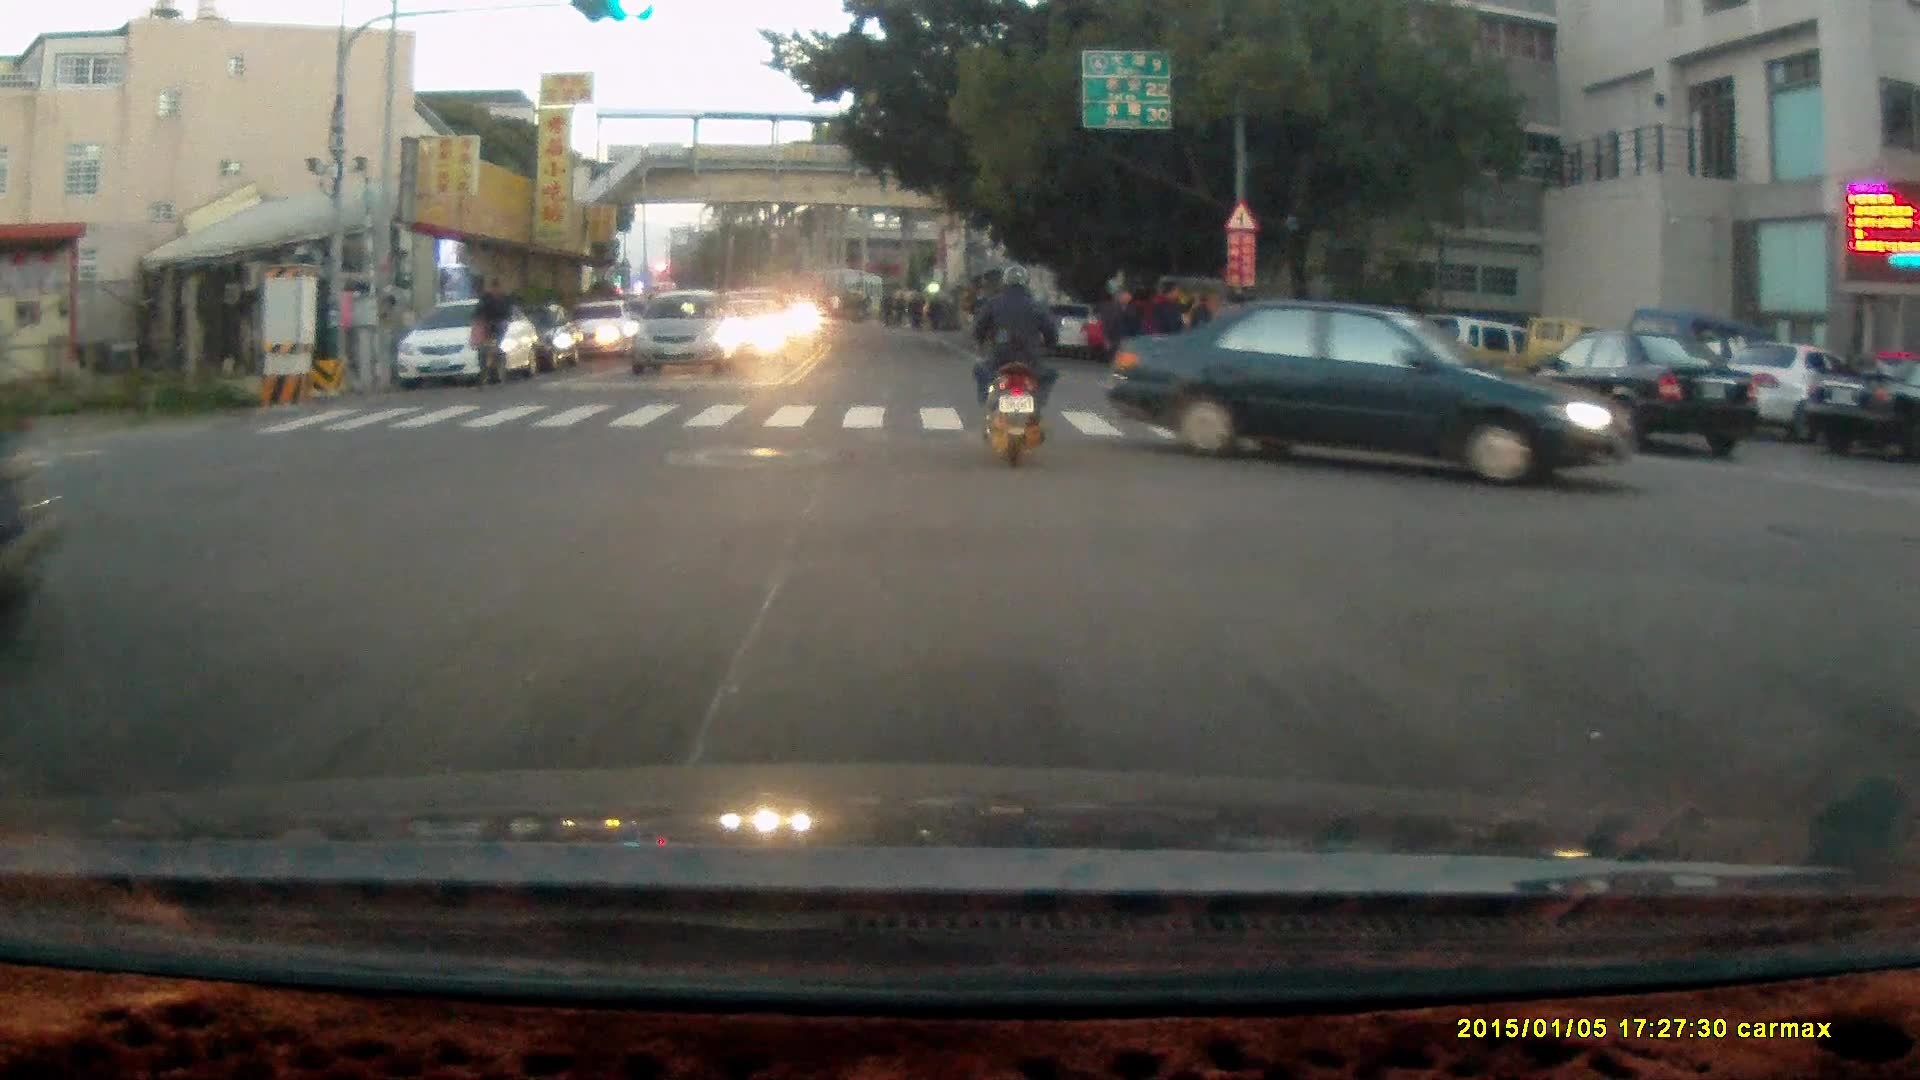pedestrian: (1106, 284, 1142, 386), (1150, 277, 1185, 380), (1184, 289, 1217, 375)
rider: (968, 261, 1062, 466), (468, 272, 512, 389)
vehicle: (1099, 288, 1633, 487), (1519, 327, 1761, 452), (1700, 337, 1889, 441), (395, 293, 546, 389), (1801, 352, 1920, 460), (626, 289, 746, 378)
